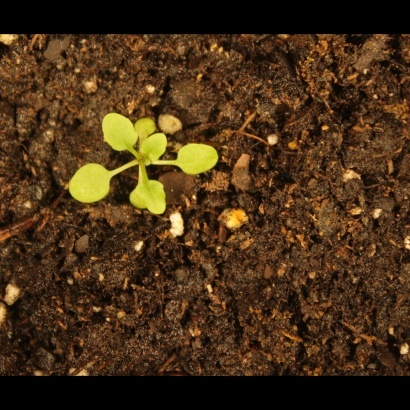leaf: (65, 161, 114, 210), (172, 139, 223, 175), (96, 113, 139, 154), (134, 178, 174, 216), (137, 131, 171, 166), (129, 112, 164, 140), (126, 189, 155, 216)
